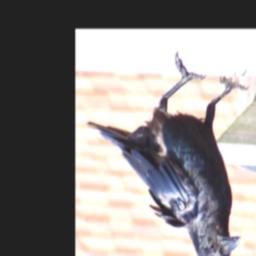Crow: (84, 45, 249, 256)
